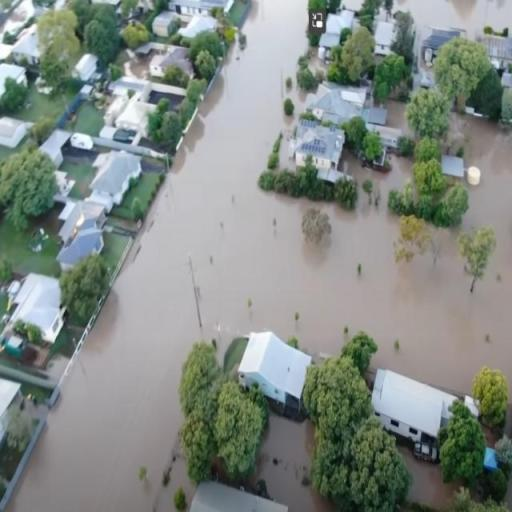flood: (5, 0, 512, 512), (396, 0, 512, 40)
house: (372, 362, 461, 462), (238, 330, 312, 413), (178, 477, 296, 512), (15, 278, 69, 344), (92, 150, 142, 202), (293, 120, 345, 168), (58, 202, 108, 241)
